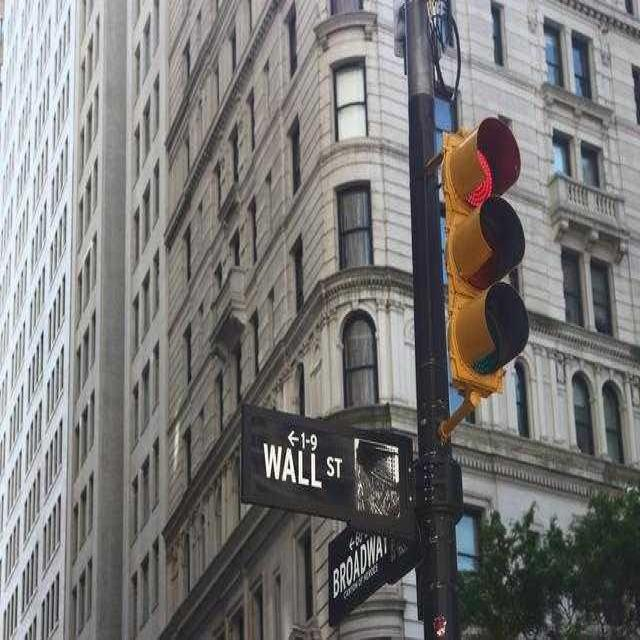Traffic Light -Red-: (438, 110, 536, 398)
